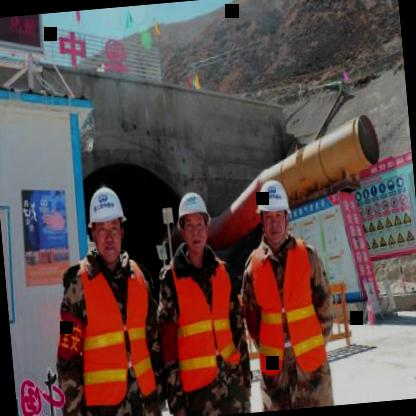helmet: (82, 178, 132, 272), (252, 168, 296, 252), (171, 186, 216, 258)
